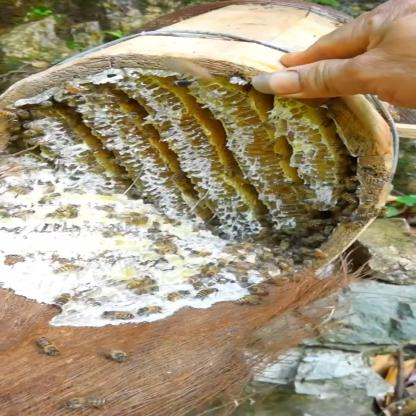bee: (101, 252, 224, 298), (240, 222, 354, 271), (323, 154, 369, 210), (30, 338, 63, 416), (0, 102, 58, 144), (6, 190, 69, 221), (88, 308, 180, 327), (94, 204, 160, 228), (48, 256, 92, 286), (56, 388, 121, 408), (94, 346, 140, 365), (68, 413, 70, 414)
